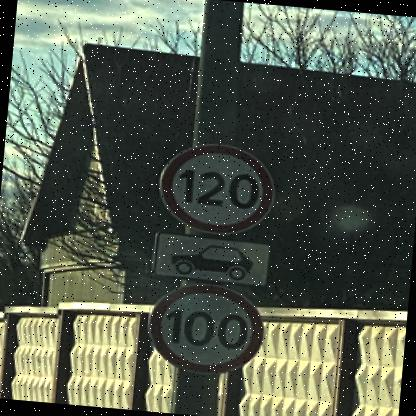speedlimit: (154, 137, 276, 236), (144, 277, 266, 376)
